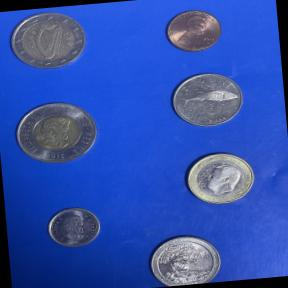1 Euro-B: (181, 148, 260, 213)
2 Euro-B: (4, 6, 94, 78)
Canada-10cent-B: (42, 202, 108, 252)
Canada-2Dollar-B: (10, 96, 105, 172)
Croatia-2Kune-B: (166, 68, 250, 133)
US-1cent-B: (162, 5, 226, 57)
US-25cent-B: (142, 229, 225, 288)
